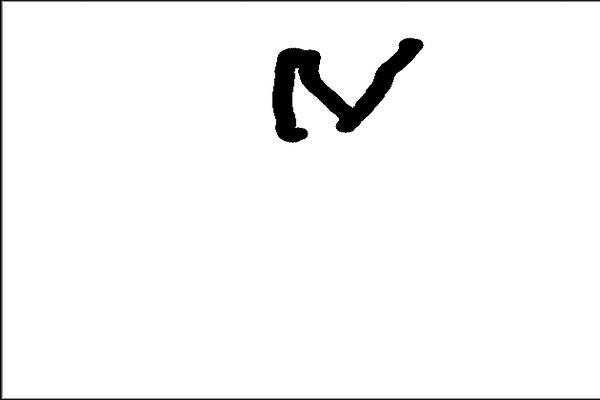N: (264, 31, 427, 143)
